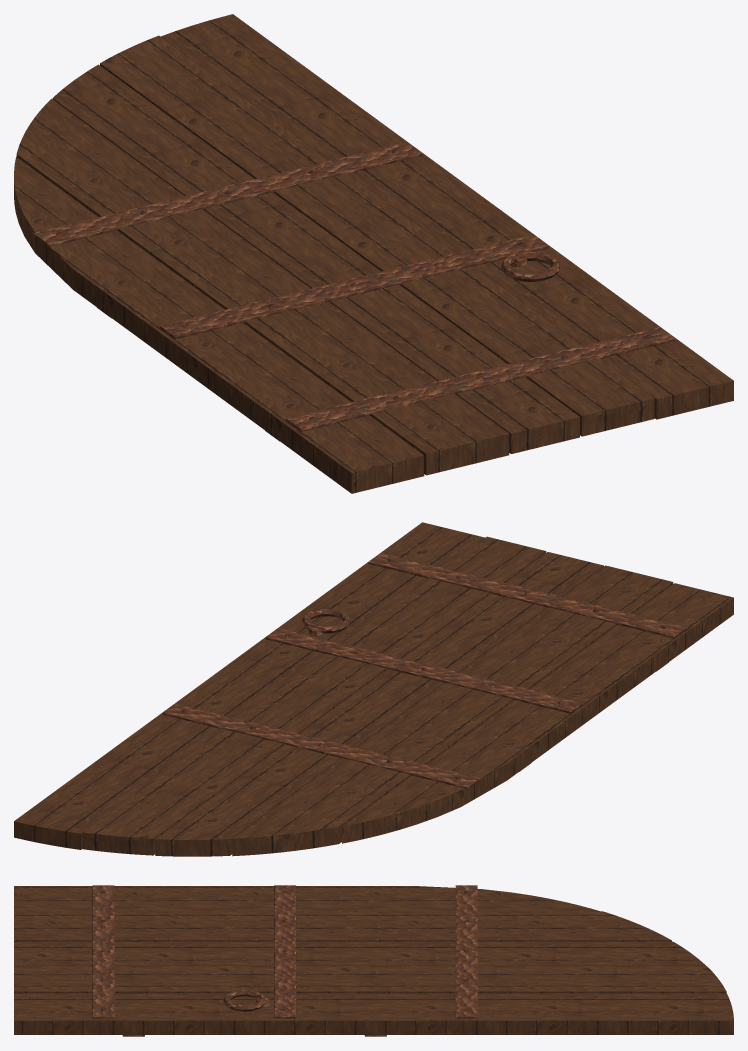
Rendered from gate_broken__cut_stone.glb.
The picture shows the model from 3 angles, top to bottom: view 1: azimuth 30°, elevation 25°; view 2: azimuth 150°, elevation 25°; view 3: azimuth 270°, elevation 25°; orthographic projection. The views are drawn at different scales.
Parts seen in each view (by area): view 1: model; view 2: model; view 3: model.
Boxes of the visible parts, x1,y1,x2,y2 form: model: (14,14,733,493); model: (14,522,733,856); model: (14,885,733,1036).
Bounding box in the file's own units: 1.57 × 0.1369 × 3.57.
Materials: 3 (3 with a texture image).
